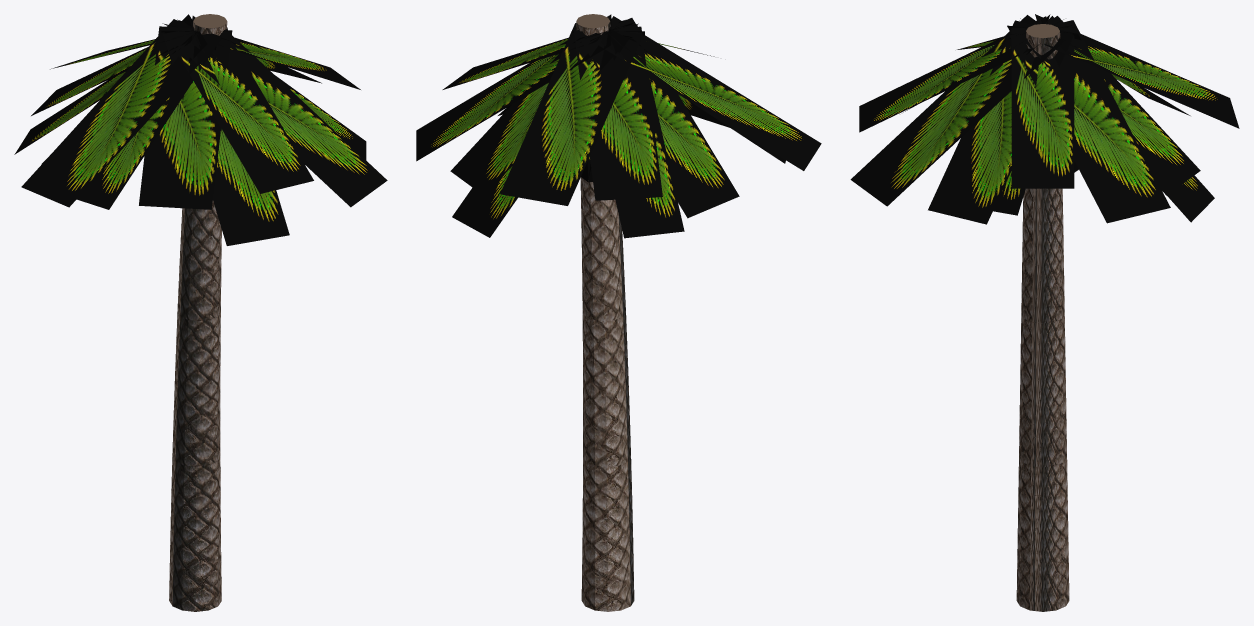
The model's file is palm_tree_v2.glb.
3 renders of one model, left to right at view 1: azimuth 30°, elevation 25°; view 2: azimuth 150°, elevation 25°; view 3: azimuth 270°, elevation 25°, orthographic.
Visible parts, largest first — view 1: palm_tree; view 2: palm_tree; view 3: palm_tree.
Part boxes in pixels (x1,y1,x2,y2): palm_tree: [14, 14, 387, 611]; palm_tree: [416, 14, 821, 611]; palm_tree: [850, 14, 1239, 611].
Size of the model in its own units: 5.14 by 8.2 by 5.01.
2 materials, 2 textured.
